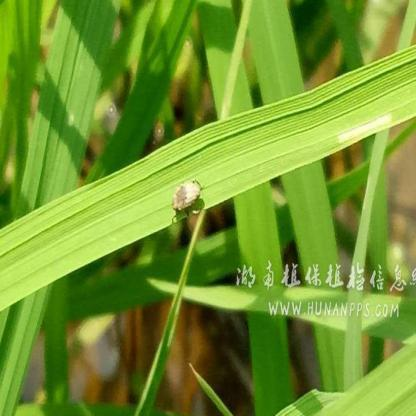rice-bug: (172, 176, 204, 219)
